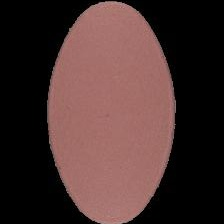61919-446: (0, 0, 224, 224)
